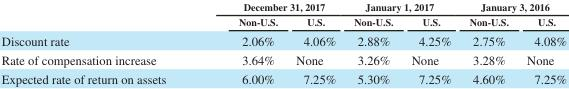table: (0, 0, 566, 86)
table column: (0, 0, 201, 86), (201, 0, 286, 86), (286, 0, 344, 86), (401, 0, 459, 86), (459, 0, 517, 86), (344, 0, 401, 86), (517, 0, 566, 86)
table column header: (0, 0, 566, 30)
table row: (0, 30, 566, 50), (0, 50, 566, 69), (0, 69, 566, 86), (0, 14, 566, 30), (0, 0, 566, 14)
table spanning cell: (201, 0, 344, 14), (344, 0, 459, 14), (459, 0, 566, 14)
